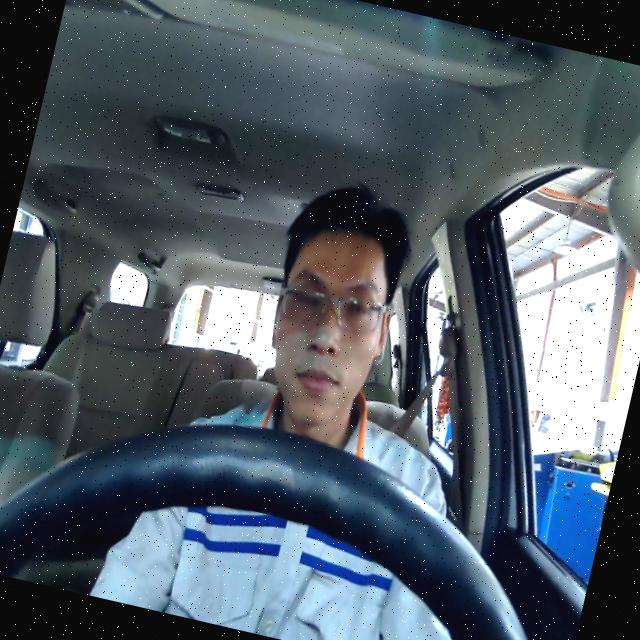focused: (250, 218, 408, 438)
